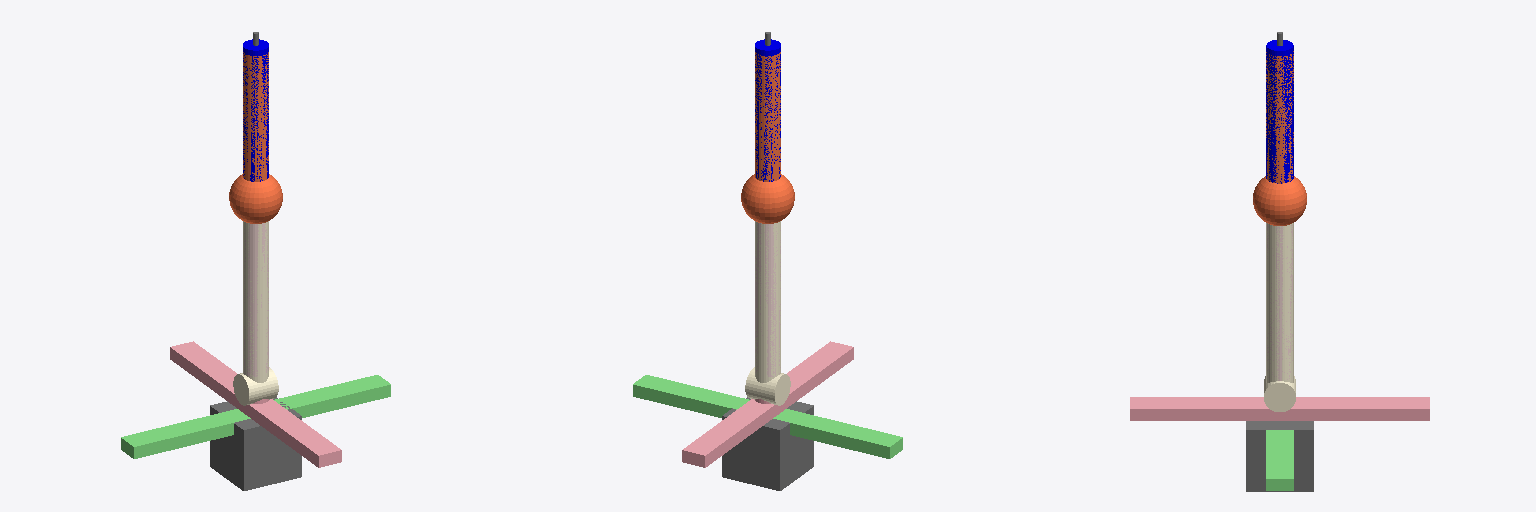
The robot description file, URDF, robot "test_robot":
<?xml version="1.0" ?>
<robot name="test_robot">
    <link name="base_link">
        <inertial>
            <mass value="1.0"/>
            <inertia ixx="0.010416666666666666" iyy="0.010416666666666666" izz="0.010416666666666666" ixy="0.0" ixz="0.0" iyz="0.0"/>
            <origin xyz="0 0 0" rpy="0 0 0"/>
        </inertial>
        <visual>
            <origin xyz="0 0 0" rpy="0 0 0"/>
            <geometry>
                <box size="0.25 0.25 0.25"/>
            </geometry>
            <material name="gray">
                <color rgba="0.5 0.5 0.5 1"/>
            </material>
        </visual>
    </link>
    <joint name="joint0_fixed" type="fixed">
        <parent link="base_link"/>
        <child link="link0_fixed"/>
        <origin xyz="0 0 0.125" rpy="0 0 0"/>
    </joint>
    <link name="link0_fixed">
        <inertial>
            <mass value="1.0"/>
            <inertia ixx="0.10166666666666668" iyy="0.10166666666666668" izz="0.10166666666666668" ixy="0.0" ixz="0.0" iyz="0.0"/>
            <origin xyz="0 0 -0.025" rpy="0 0 0"/>
        </inertial>
        <visual>
            <origin xyz="0 0 -0.025" rpy="0 0 0"/>
            <geometry>
                <box size="1.1 0.1 0.05"/>
            </geometry>
            <material name="lightgreen">
                <color rgba="0.5647058823529412 0.9333333333333333 0.5647058823529412 1.0"/>
            </material>
        </visual>
        <collision>
            <origin xyz="0 0 -0.025" rpy="0 0 0"/>
            <geometry>
                <box size="1.1 0.1 0.05"/>
            </geometry>
        </collision>
    </link>
    <joint name="joint0" type="prismatic">
        <parent link="link0_fixed"/>
        <child link="link0"/>
        <origin xyz="0 0 0" rpy="0 0 0"/>
        <axis xyz="1 0 0"/>
        <limit lower="-0.5" upper="0.5" effort="10" velocity="1"/>
    </joint>
    <link name="link0">
        <inertial>
            <mass value="1.0"/>
            <inertia ixx="0.0008333333333333335" iyy="0.0008333333333333335" izz="0.0012500000000000002" ixy="0.0" ixz="0.0" iyz="0.0"/>
            <origin xyz="0 0 0.025" rpy="0 0 0"/>
        </inertial>
        <visual>
            <origin xyz="0 0 0.025" rpy="0 0 0"/>
            <geometry>
                <cylinder length="0.05" radius="0.05"/>
            </geometry>
            <material name="lightgreen">
                <color rgba="0.5647058823529412 0.9333333333333333 0.5647058823529412 1.0"/>
            </material>
        </visual>
        <collision>
            <origin xyz="0 0 0.025" rpy="0 0 0"/>
            <geometry>
                <cylinder length="0.05" radius="0.05"/>
            </geometry>
        </collision>
    </link>
    <joint name="joint1_fixed" type="fixed">
        <parent link="link0"/>
        <child link="link1_fixed"/>
        <origin xyz="0 0 0.05" rpy="0 0 0"/>
    </joint>
    <link name="link1_fixed">
        <inertial>
            <mass value="1.0"/>
            <inertia ixx="0.10166666666666668" iyy="0.10166666666666668" izz="0.10166666666666668" ixy="0.0" ixz="0.0" iyz="0.0"/>
            <origin xyz="0 0 -0.025" rpy="0 0 0"/>
        </inertial>
        <visual>
            <origin xyz="0 0 -0.025" rpy="0 0 0"/>
            <geometry>
                <box size="0.1 1.1 0.05"/>
            </geometry>
            <material name="lightpink">
                <color rgba="1.0 0.7137254901960784 0.7568627450980392 1.0"/>
            </material>
        </visual>
        <collision>
            <origin xyz="0 0 -0.025" rpy="0 0 0"/>
            <geometry>
                <box size="0.1 1.1 0.05"/>
            </geometry>
        </collision>
    </link>
    <joint name="joint1" type="prismatic">
        <parent link="link1_fixed"/>
        <child link="link1"/>
        <origin xyz="0 0 0" rpy="0 0 0"/>
        <axis xyz="0 1 0"/>
        <limit lower="-0.5" upper="0.5" effort="10" velocity="1"/>
    </joint>
    <link name="link1">
        <inertial>
            <mass value="1.0"/>
            <inertia ixx="0.0008333333333333335" iyy="0.0008333333333333335" izz="0.0012500000000000002" ixy="0.0" ixz="0.0" iyz="0.0"/>
            <origin xyz="0 0 0.025" rpy="0 0 0"/>
        </inertial>
        <visual>
            <origin xyz="0 0 0.025" rpy="0 0 0"/>
            <geometry>
                <cylinder length="0.05" radius="0.05"/>
            </geometry>
            <material name="lightpink">
                <color rgba="1.0 0.7137254901960784 0.7568627450980392 1.0"/>
            </material>
        </visual>
        <collision>
            <origin xyz="0 0 0.025" rpy="0 0 0"/>
            <geometry>
                <cylinder length="0.05" radius="0.05"/>
            </geometry>
        </collision>
    </link>
    <joint name="joint_viz2" type="fixed">
        <parent link="link1"/>
        <child link="joint_viz_link2"/>
        <origin xyz="0 0 0.05" rpy="0 0 0"/>
    </joint>
    <link name="joint_viz_link2">
        <inertial>
            <mass value="0.0"/>
            <inertia ixx="0.0" iyy="0.0" izz="0.0" ixy="0.0" ixz="0.0" iyz="0.0"/>
            <origin xyz="0 0 0" rpy="0 1.57 0"/>
        </inertial>
        <visual>
            <origin xyz="0 0 0" rpy="0 1.57 0"/>
            <geometry>
                <cylinder length="0.125" radius="0.06"/>
            </geometry>
            <material name="cornsilk">
                <color rgba="1.0 0.9725490196078431 0.8627450980392157 1.0"/>
            </material>
        </visual>
    </link>
    <joint name="joint2" type="revolute">
        <parent link="link1"/>
        <child link="link2"/>
        <origin xyz="0 0 0.05" rpy="0 0 0"/>
        <axis xyz="1 0 0"/>
        <limit lower="-3.14" upper="3.14" effort="10" velocity="1"/>
    </joint>
    <link name="link2">
        <inertial>
            <mass value="1.0"/>
            <inertia ixx="0.047499999999999994" iyy="0.047499999999999994" izz="0.0012500000000000002" ixy="0.0" ixz="0.0" iyz="0.0"/>
            <origin xyz="0 0 0.375" rpy="0 0 0"/>
        </inertial>
        <visual>
            <origin xyz="0 0 0.375" rpy="0 0 0"/>
            <geometry>
                <cylinder length="0.75" radius="0.05"/>
            </geometry>
            <material name="cornsilk">
                <color rgba="1.0 0.9725490196078431 0.8627450980392157 1.0"/>
            </material>
        </visual>
        <collision>
            <origin xyz="0 0 0.375" rpy="0 0 0"/>
            <geometry>
                <cylinder length="0.75" radius="0.05"/>
            </geometry>
        </collision>
    </link>
    <joint name="joint3" type="prismatic">
        <parent link="link2"/>
        <child link="link3"/>
        <origin xyz="0 0 0.061" rpy="0 0 0"/>
        <axis xyz="0 0 1"/>
        <limit lower="0" upper="0.7" effort="10" velocity="1"/>
    </joint>
    <link name="link3">
        <inertial>
            <mass value="1.0"/>
            <inertia ixx="0.04275174999999999" iyy="0.04275174999999999" izz="0.0012500000000000002" ixy="0.0" ixz="0.0" iyz="0.0"/>
            <origin xyz="0 0 0.3555" rpy="0 0 0"/>
        </inertial>
        <visual>
            <origin xyz="0 0 0.3555" rpy="0 0 0"/>
            <geometry>
                <cylinder length="0.711" radius="0.05"/>
            </geometry>
            <material name="mistyrose">
                <color rgba="1.0 0.8941176470588236 0.8823529411764706 1.0"/>
            </material>
        </visual>
        <collision>
            <origin xyz="0 0 0.3555" rpy="0 0 0"/>
            <geometry>
                <cylinder length="0.711" radius="0.05"/>
            </geometry>
        </collision>
    </link>
    <joint name="sph_joint_x_1" type="revolute">
        <parent link="link3"/>
        <child link="sph_link_x_1"/>
        <origin xyz="0 0 0.711" rpy="0 0 0"/>
        <axis xyz="1 0 0"/>
        <limit lower="-3.14" upper="3.14" effort="10" velocity="1"/>
    </joint>
    <link name="sph_link_x_1">
        <inertial>
            <mass value="0.001"/>
            <inertia ixx="4.000000000000001e-06" iyy="4.000000000000001e-06" izz="4.000000000000001e-06" ixy="0.0" ixz="0.0" iyz="0.0"/>
            <origin xyz="0 0 0" rpy="0 0 0"/>
        </inertial>
        <visual>
            <origin xyz="0 0 0" rpy="0 0 0"/>
            <geometry>
                <sphere radius="0.1"/>
            </geometry>
            <material name="coral">
                <color rgba="1.0 0.4980392156862745 0.3137254901960784 1.0"/>
            </material>
        </visual>
    </link>
    <joint name="sph_joint_y_1" type="revolute">
        <parent link="sph_link_x_1"/>
        <child link="sph_link_y_1"/>
        <origin xyz="0 0 0" rpy="0 0 0"/>
        <axis xyz="0 1 0"/>
        <limit lower="-3.14" upper="3.14" effort="10" velocity="1"/>
    </joint>
    <link name="sph_link_y_1">
        <inertial>
            <mass value="0.001"/>
            <inertia ixx="4.000000000000001e-06" iyy="4.000000000000001e-06" izz="4.000000000000001e-06" ixy="0.0" ixz="0.0" iyz="0.0"/>
            <origin xyz="0 0 0" rpy="0 0 0"/>
        </inertial>
        <visual>
            <origin xyz="0 0 0" rpy="0 0 0"/>
            <geometry>
                <sphere radius="0.1"/>
            </geometry>
            <material name="coral">
                <color rgba="1.0 0.4980392156862745 0.3137254901960784 1.0"/>
            </material>
        </visual>
    </link>
    <joint name="sph_joint_z_1" type="revolute">
        <parent link="sph_link_y_1"/>
        <child link="sph_link_z_1"/>
        <origin xyz="0 0 0" rpy="0 0 0"/>
        <axis xyz="0 0 1"/>
        <limit lower="-3.14" upper="3.14" effort="10" velocity="1"/>
    </joint>
    <link name="sph_link_z_1">
        <inertial>
            <mass value="0.001"/>
            <inertia ixx="4.000000000000001e-06" iyy="4.000000000000001e-06" izz="4.000000000000001e-06" ixy="0.0" ixz="0.0" iyz="0.0"/>
            <origin xyz="0 0 0" rpy="0 0 0"/>
        </inertial>
        <visual>
            <origin xyz="0 0 0" rpy="0 0 0"/>
            <geometry>
                <sphere radius="0.1"/>
            </geometry>
            <material name="coral">
                <color rgba="1.0 0.4980392156862745 0.3137254901960784 1.0"/>
            </material>
        </visual>
    </link>
    <joint name="joint4" type="fixed">
        <parent link="sph_link_z_1"/>
        <child link="link4"/>
        <origin xyz="0 0 0" rpy="0 0 0"/>
    </joint>
    <link name="link4">
        <inertial>
            <mass value="1.0"/>
            <inertia ixx="0.030625" iyy="0.030625" izz="0.0012500000000000002" ixy="0.0" ixz="0.0" iyz="0.0"/>
            <origin xyz="0 0 0.3" rpy="0 0 0"/>
        </inertial>
        <visual>
            <origin xyz="0 0 0.3" rpy="0 0 0"/>
            <geometry>
                <cylinder length="0.6" radius="0.05"/>
            </geometry>
            <material name="coral">
                <color rgba="1.0 0.4980392156862745 0.3137254901960784 1.0"/>
            </material>
        </visual>
        <collision>
            <origin xyz="0 0 0.3" rpy="0 0 0"/>
            <geometry>
                <cylinder length="0.6" radius="0.05"/>
            </geometry>
        </collision>
    </link>
    <joint name="joint5" type="prismatic">
        <parent link="link4"/>
        <child link="link5"/>
        <origin xyz="0 0 0.061" rpy="0 0 0"/>
        <axis xyz="0 0 1"/>
        <limit lower="0" upper="0.5499999999999999" effort="10" velocity="1"/>
    </joint>
    <link name="link5">
        <inertial>
            <mass value="1.0"/>
            <inertia ixx="0.026851749999999994" iyy="0.026851749999999994" izz="0.0012500000000000002" ixy="0.0" ixz="0.0" iyz="0.0"/>
            <origin xyz="0 0 0.28049999999999997" rpy="0 0 0"/>
        </inertial>
        <visual>
            <origin xyz="0 0 0.28049999999999997" rpy="0 0 0"/>
            <geometry>
                <cylinder length="0.5609999999999999" radius="0.05"/>
            </geometry>
            <material name="blue">
                <color rgba="0.0 0.0 1.0 1.0"/>
            </material>
        </visual>
        <collision>
            <origin xyz="0 0 0.28049999999999997" rpy="0 0 0"/>
            <geometry>
                <cylinder length="0.5609999999999999" radius="0.05"/>
            </geometry>
        </collision>
    </link>
    <joint name="probe_joint" type="fixed">
        <parent link="link5"/>
        <child link="probe_link"/>
        <origin xyz="0 0 0.5609999999999999" rpy="0 0 0"/>
    </joint>
    <link name="probe_link">
        <inertial>
            <mass value="0.0"/>
            <inertia ixx="0.0" iyy="0.0" izz="0.0" ixy="0.0" ixz="0.0" iyz="0.0"/>
            <origin xyz="0 0 0" rpy="0 0 0"/>
        </inertial>
        <visual>
            <origin xyz="0 0 0" rpy="0 0 0"/>
            <geometry>
                <cylinder length="0.1" radius="0.01"/>
            </geometry>
            <material name="gray">
                <color rgba="0.5 0.5 0.5 1"/>
            </material>
        </visual>
    </link>
    <joint name="end_effector_joint" type="fixed">
        <parent link="probe_link"/>
        <child link="end_effector"/>
        <origin xyz="0 0 0.1" rpy="0 0 0"/>
    </joint>
    <link name="end_effector">
        <inertial>
            <mass value="0.0"/>
            <inertia ixx="0.0" iyy="0.0" izz="0.0" ixy="0.0" ixz="0.0" iyz="0.0"/>
            <origin xyz="0 0 0" rpy="0 0 0"/>
        </inertial>
        <visual>
            <origin xyz="0 0 0" rpy="0 0 0"/>
            <geometry>
                <cylinder length="0" radius="0"/>
            </geometry>
            <material name="gray">
                <color rgba="0.5 0.5 0.5 1"/>
            </material>
        </visual>
    </link>
</robot>

--- Facts derived from the render (not from the file) ---
The picture shows the robot from 3 angles, left to right: view 1: azimuth 30°, elevation 25°; view 2: azimuth 150°, elevation 25°; view 3: azimuth 270°, elevation 25°; orthographic projection.
Robot: test_robot — 15 links, 14 joints (4 revolute, 4 prismatic, 6 fixed); root link base_link; default pose: every joint at zero.
Links seen in each view (by area): view 1: link0_fixed, link1_fixed, base_link, link2, link4, sph_link_x_1, link3, link5, joint_viz_link2; view 2: link0_fixed, link1_fixed, base_link, link2, link4, sph_link_x_1, link3, link5, joint_viz_link2; view 3: link1_fixed, link2, base_link, link5, sph_link_x_1, link0_fixed, link4, link3, joint_viz_link2.
Link boxes in pixels (x1,y1,x2,y2): link0_fixed: (121,375,390,458); link1_fixed: (170,341,341,467); base_link: (210,397,301,490); link2: (243,221,268,382); link4: (243,52,268,181); sph_link_x_1: (229,174,282,223); link3: (244,223,268,376); link5: (243,39,268,181); joint_viz_link2: (233,367,278,405); link0_fixed: (633,375,902,458); link1_fixed: (682,341,853,467); base_link: (722,397,813,490); link2: (755,221,780,382); link4: (755,52,780,181); sph_link_x_1: (741,174,794,223); link3: (755,223,780,376); link5: (755,39,780,181); joint_viz_link2: (745,367,790,405); link1_fixed: (1130,397,1429,420); link2: (1266,223,1293,382); base_link: (1246,421,1313,491); link5: (1266,40,1293,183); sph_link_x_1: (1253,176,1306,225); link0_fixed: (1266,430,1293,490); link4: (1266,51,1293,183); link3: (1267,224,1293,380); joint_viz_link2: (1264,376,1295,411).
Bounding box of the posed robot: 1.1 × 1.1 × 1.84 m (x, y, z).
Geometry: primitives only (box / cylinder / sphere), no mesh files.